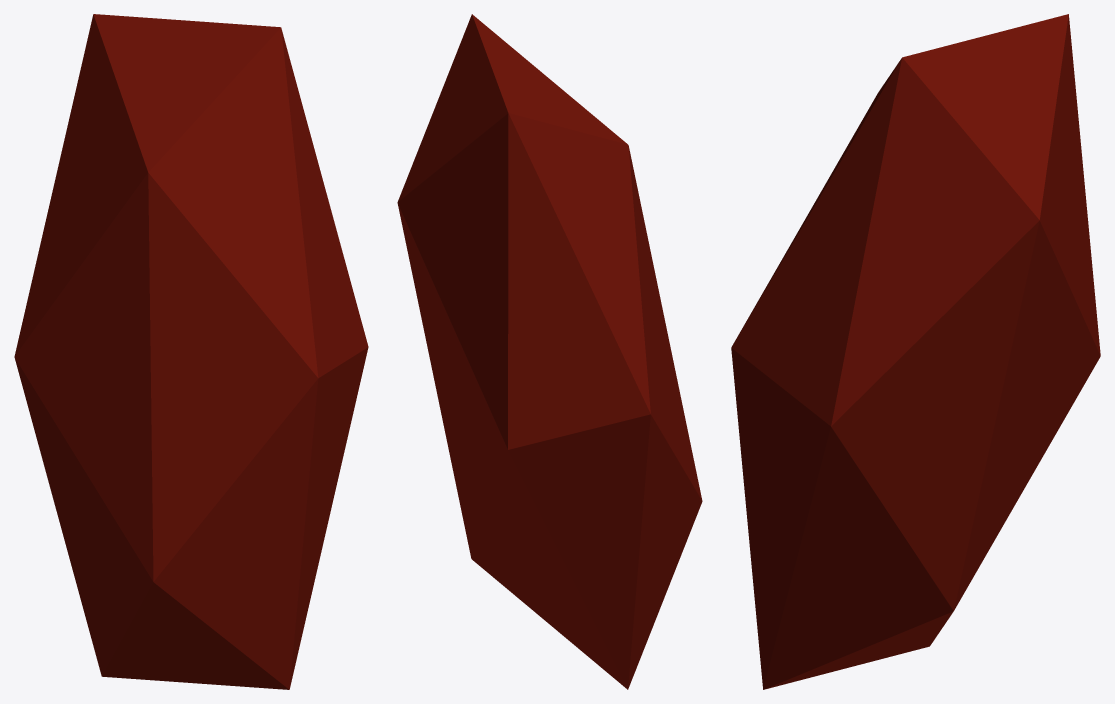
The model's file is Platonic_11.gltf.
3 renders of one model, left to right at view 1: azimuth 30°, elevation 25°; view 2: azimuth 150°, elevation 25°; view 3: azimuth 270°, elevation 25°, orthographic. The views are drawn at different scales.
Visible parts, largest first — view 1: Platonic_11; view 2: Platonic_11; view 3: Platonic_11.
Part boxes in pixels (x1=…): Platonic_11: x1=14, y1=14, x2=368, y2=689; Platonic_11: x1=397, y1=14, x2=702, y2=689; Platonic_11: x1=731, y1=14, x2=1100, y2=689.
Bounding box in the file's own units: 21.37 × 45.6 × 22.51.
